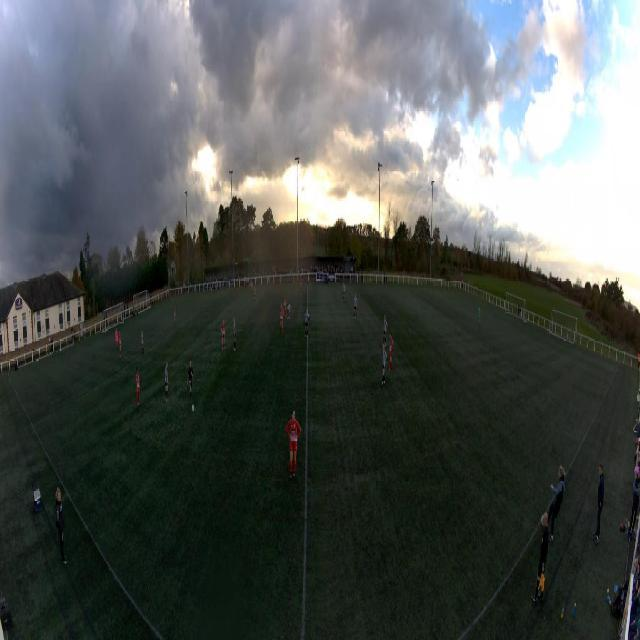ball: (191, 403, 194, 411)
player: (286, 408, 302, 480), (187, 360, 194, 400), (382, 344, 387, 384), (389, 332, 394, 369), (304, 308, 310, 337), (136, 367, 140, 407), (383, 315, 388, 345), (164, 363, 168, 400), (353, 293, 358, 320), (221, 320, 225, 352), (280, 304, 284, 335), (233, 319, 236, 351), (119, 330, 122, 360), (286, 302, 291, 320), (283, 294, 287, 316), (342, 284, 346, 303), (141, 330, 144, 355), (115, 330, 118, 349), (174, 306, 176, 327), (478, 305, 480, 325), (254, 286, 256, 304), (251, 279, 253, 294), (300, 278, 302, 292)
